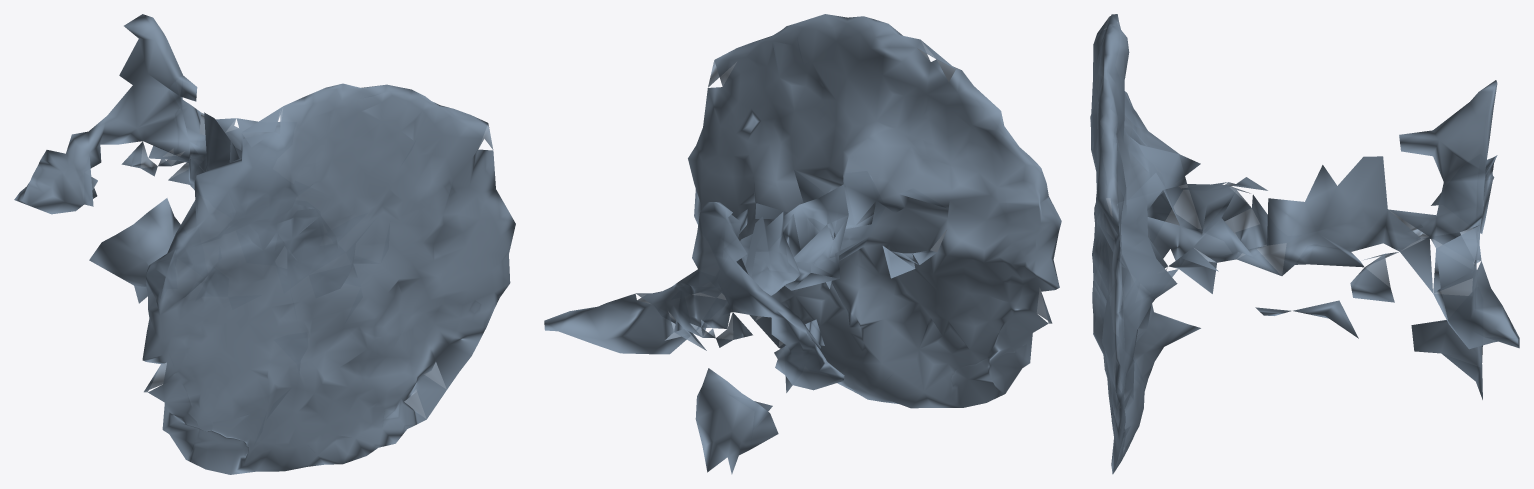
The model's file is table_0363_recon.obj.
3 views of the same model, side by side, from view 1: azimuth 30°, elevation 25°; view 2: azimuth 150°, elevation 25°; view 3: azimuth 270°, elevation 25° (orthographic). The views are drawn at different scales.
Bounding box in the file's own units: 1.38 × 1.34 × 1.25.
